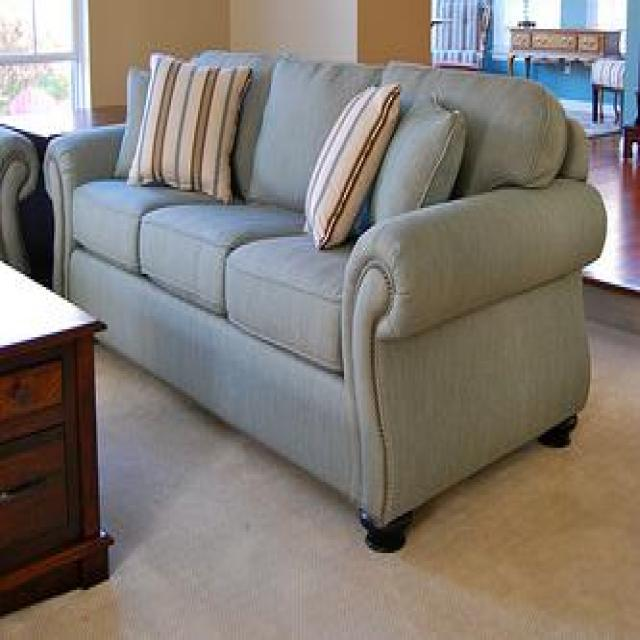sofa: (40, 47, 608, 553)
